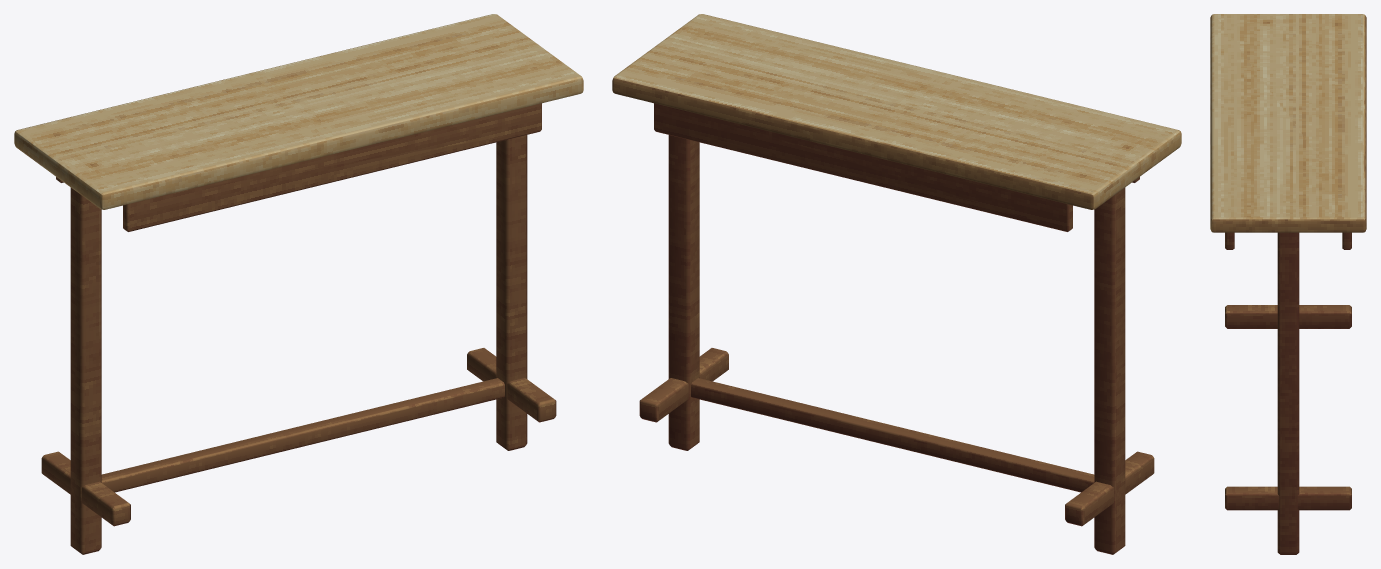
Rendered from console_table.glb.
The picture shows the model from 3 angles, left to right: view 1: azimuth 30°, elevation 25°; view 2: azimuth 150°, elevation 25°; view 3: azimuth 270°, elevation 25°; orthographic projection. The views are drawn at different scales.
Parts seen in each view (by area): view 1: mesh; view 2: mesh; view 3: mesh.
Boxes of the visible parts, box(x1,y1,x2,y2) form: mesh: box(14, 14, 583, 554); mesh: box(612, 14, 1181, 554); mesh: box(1210, 14, 1366, 554).
Bounding box in the file's own units: 1 × 0.78 × 0.32.
Materials: 1 (1 with a texture image).
